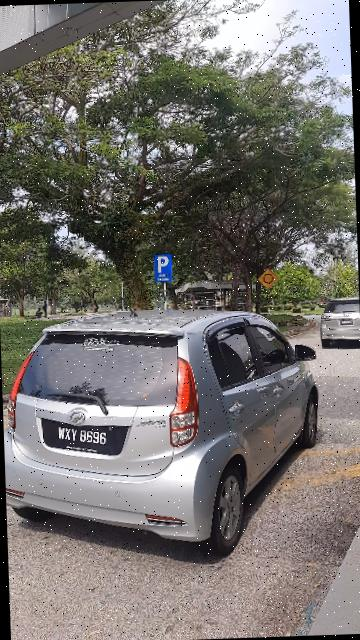License_Plate: (38, 413, 132, 463)
car: (1, 281, 330, 562)
